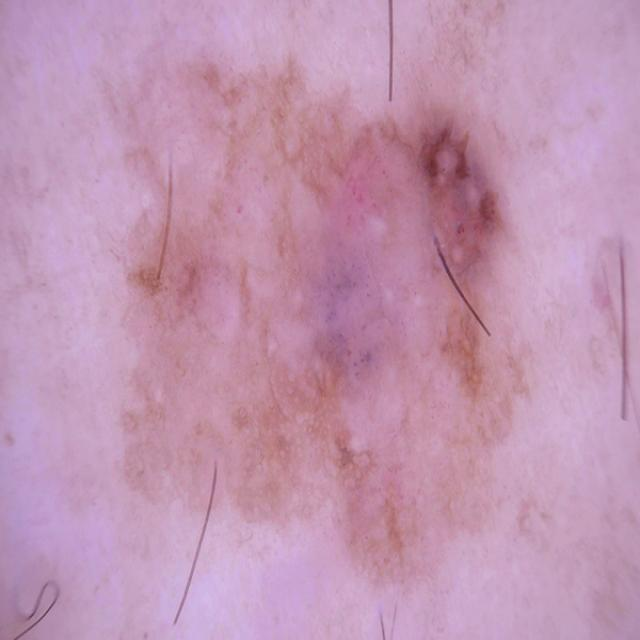Skin-Cancer Pigmented benign keratosis: (19, 15, 601, 640)
